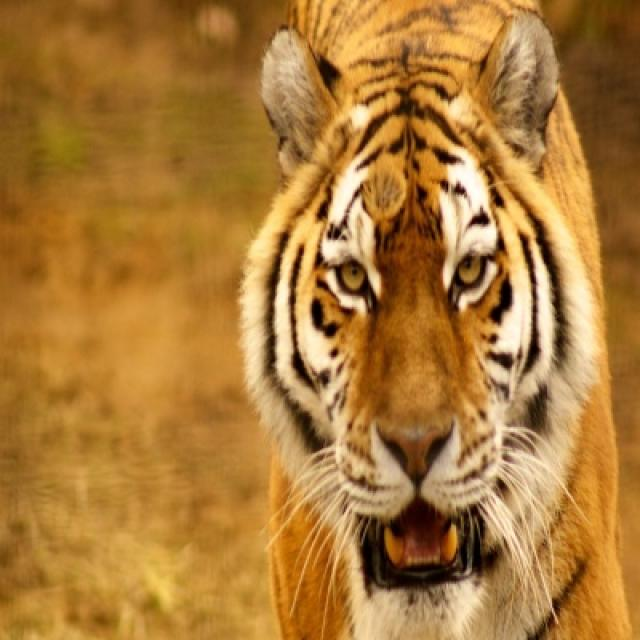Tiger: (239, 0, 638, 638)
